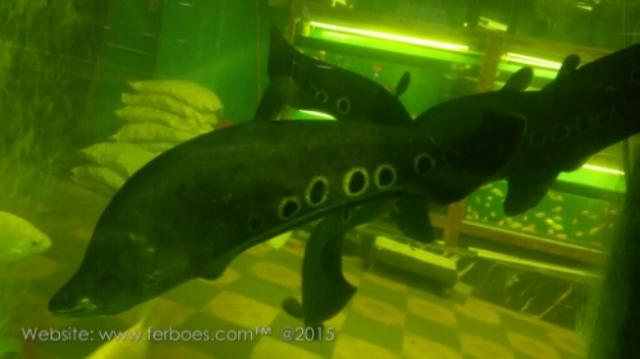Mulut: (39, 288, 111, 328)
Sirip Punggung: (240, 64, 308, 138), (498, 60, 540, 99), (391, 66, 419, 111), (556, 52, 588, 84)
